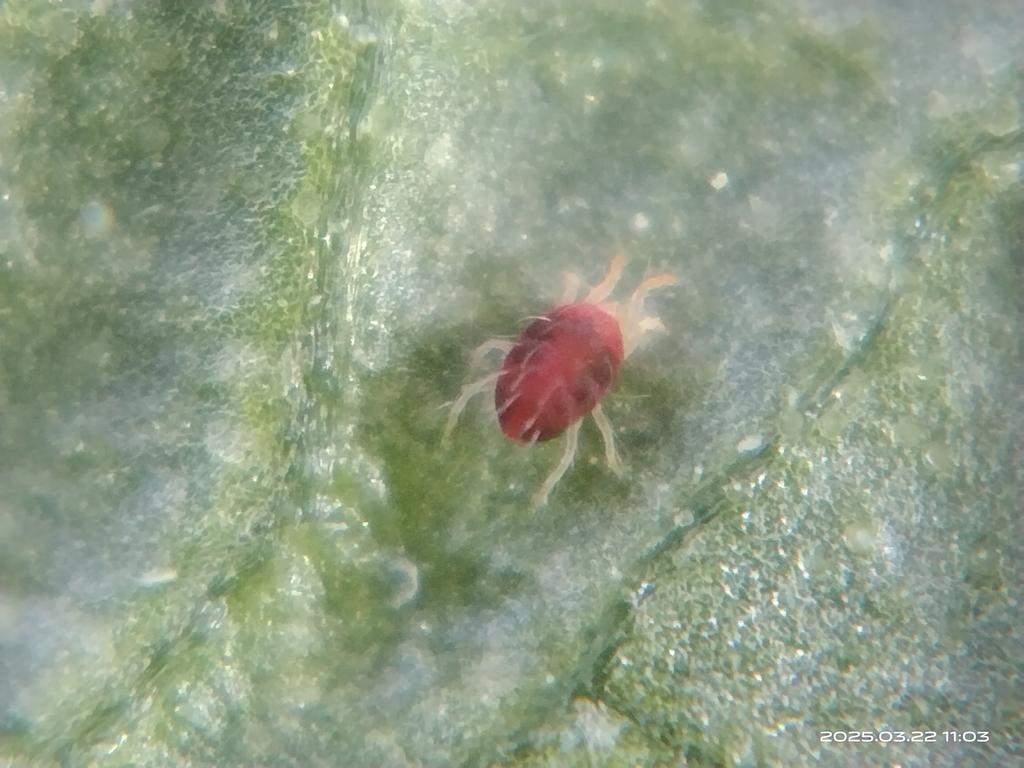tiny_pests: (369, 214, 736, 531)
